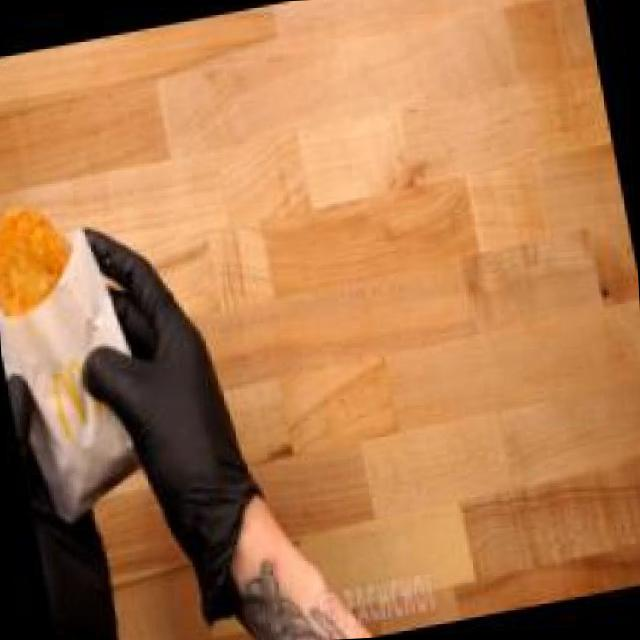Hashbrown: (0, 171, 106, 344)
